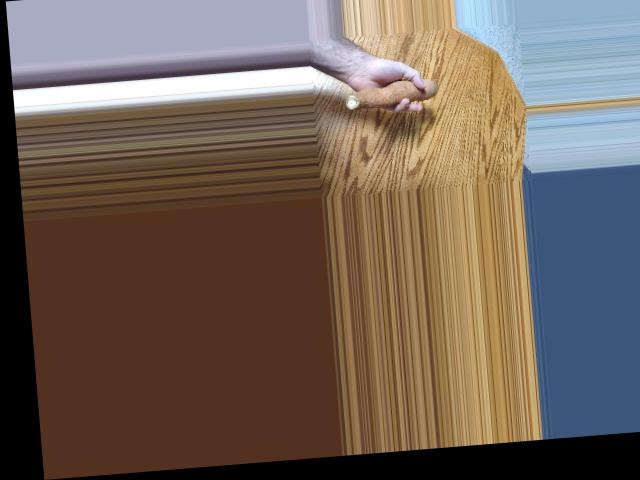sweet_potato: (341, 82, 444, 113)
